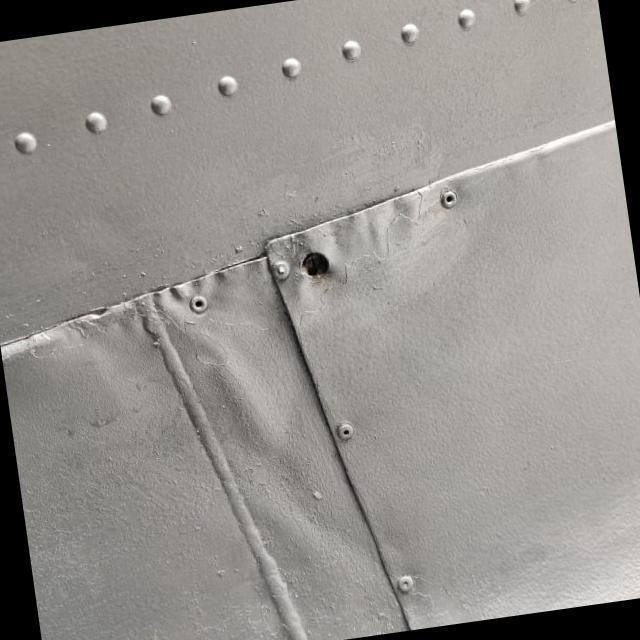Fastener Damage: (242, 188, 384, 328)
